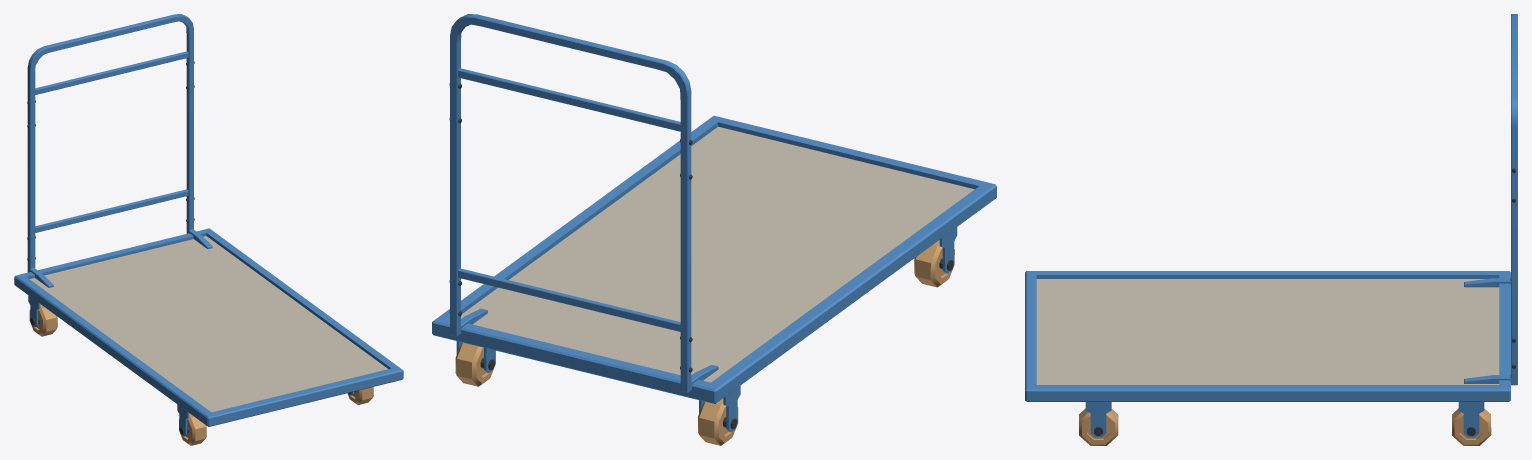
Rendered from car_12.gltf.
3 renders of one model, left to right at view 1: azimuth 30°, elevation 25°; view 2: azimuth 150°, elevation 25°; view 3: azimuth 270°, elevation 25°, orthographic. The views are drawn at different scales.
Visible parts, largest first — view 1: body; view 2: body; view 3: body.
Boxes of the visible parts, x1,y1,x2,y2 form: body: (14, 14, 403, 445); body: (432, 14, 996, 445); body: (1025, 14, 1517, 444).
Size of the model in its own units: 1.26 by 1.65 by 2.19.
1 material, 1 textured.
